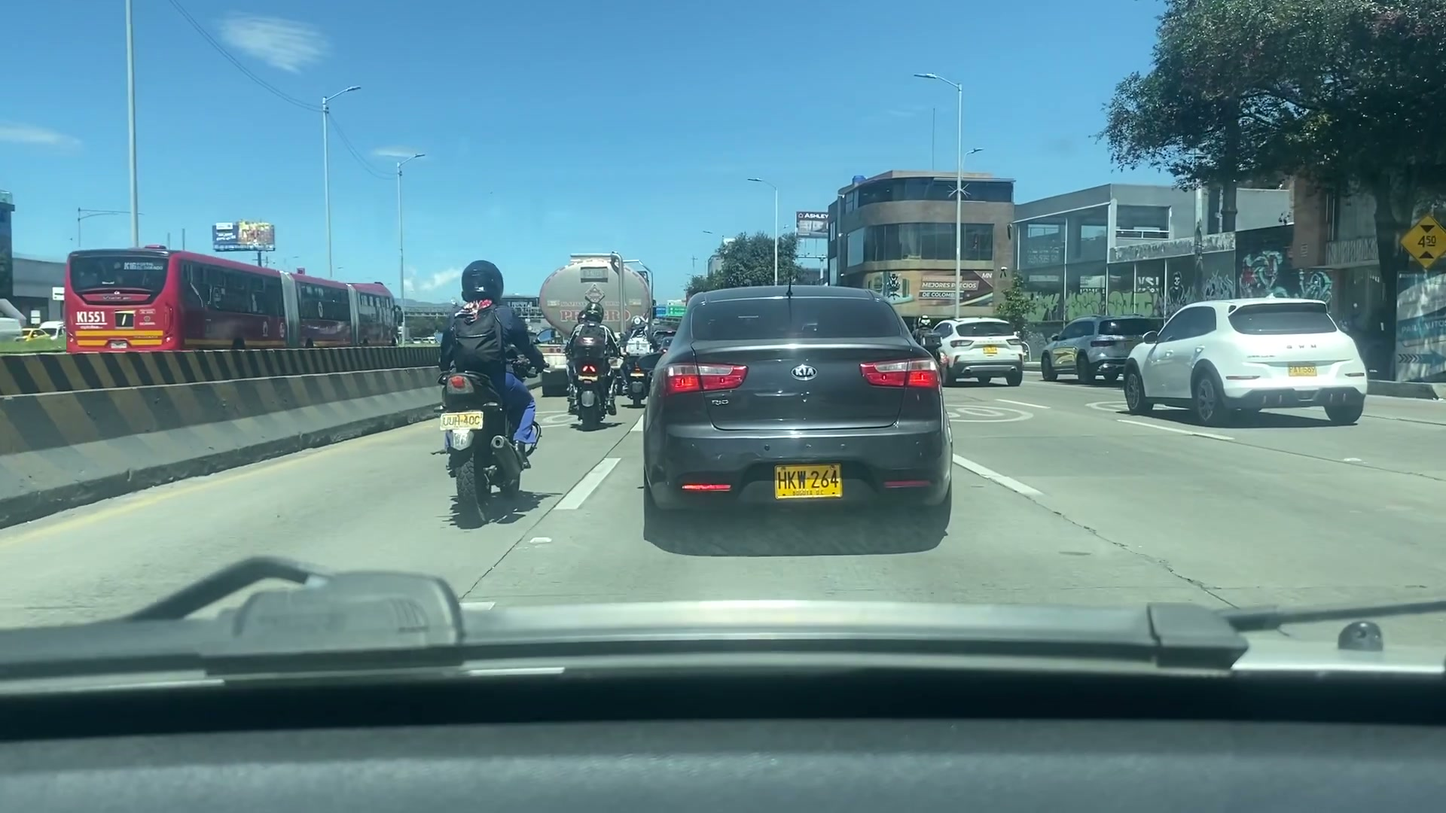car: (646, 288, 956, 539), (61, 247, 409, 354), (1121, 295, 1375, 427), (1041, 312, 1159, 383), (925, 319, 1025, 389)
motorcycle: (434, 371, 538, 526), (564, 358, 620, 424), (620, 359, 656, 408)
person: (566, 301, 621, 415), (621, 312, 656, 398), (907, 313, 946, 376)
truck: (445, 258, 536, 487), (536, 251, 660, 395)
